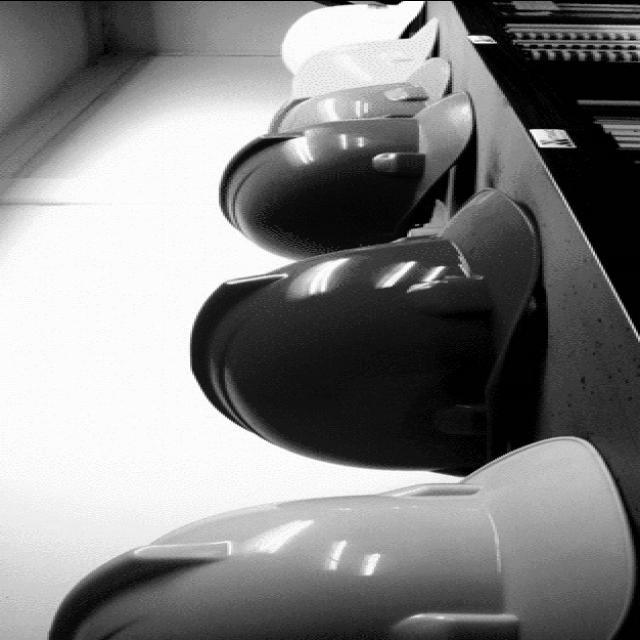construction helmet: (53, 434, 638, 640), (190, 186, 542, 477), (219, 91, 478, 260), (270, 55, 452, 131), (290, 17, 440, 97), (280, 0, 427, 74)
